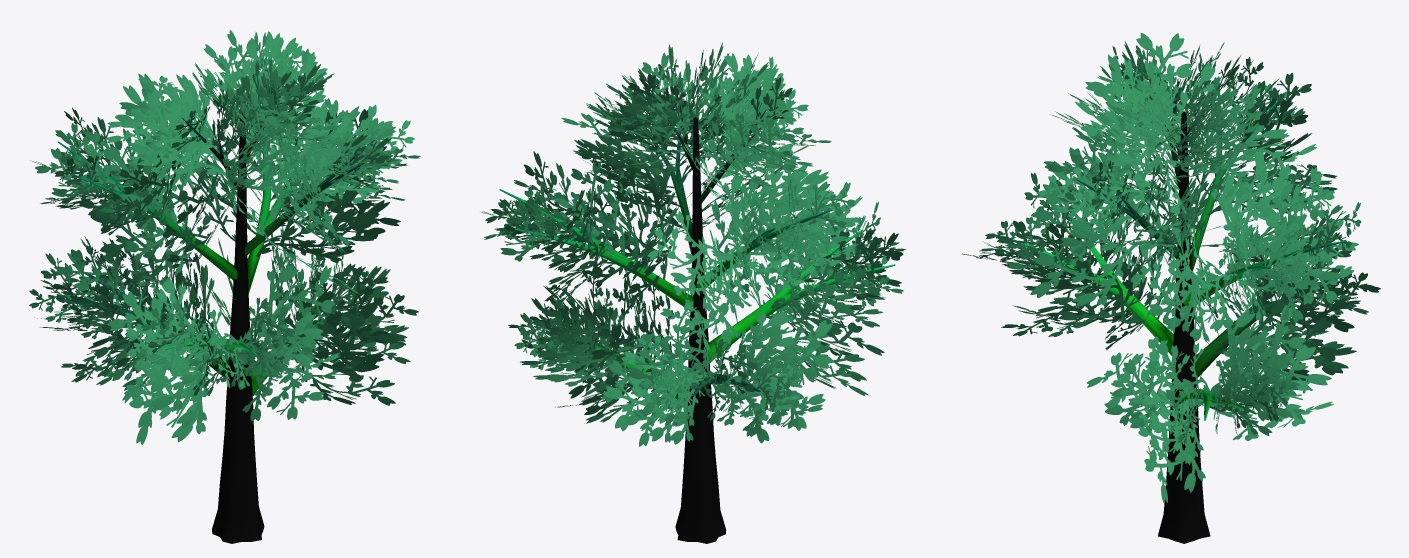
File: SM_DebugTree02.fbx
3 views of the same model, side by side, from view 1: azimuth 30°, elevation 25°; view 2: azimuth 150°, elevation 25°; view 3: azimuth 270°, elevation 25° (orthographic). The views are drawn at different scales.
Visible parts, largest first — view 1: Tree_1, Tree_0; view 2: Tree_1, Tree_0; view 3: Tree_1, Tree_0.
Boxes of the visible parts, <box> form: Tree_1: <box>29,30,420,444</box>; Tree_0: <box>58,102,374,543</box>; Tree_1: <box>481,42,905,446</box>; Tree_0: <box>499,98,895,543</box>; Tree_1: <box>962,33,1380,502</box>; Tree_0: <box>1001,79,1346,543</box>.
Size of the model in its own units: 212 by 262 by 212.
1 material, 1 textured.
